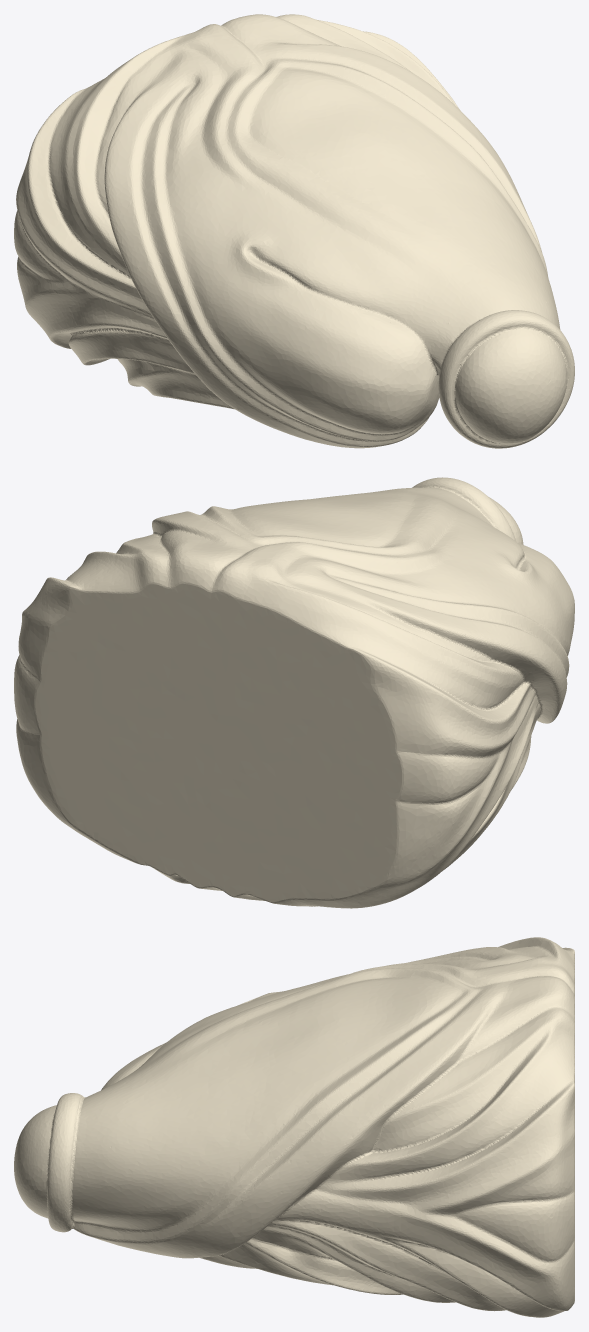
Rendered from abrazo-sagrado-natividad.glb.
The picture shows the model from 3 angles, top to bottom: view 1: azimuth 30°, elevation 25°; view 2: azimuth 150°, elevation 25°; view 3: azimuth 270°, elevation 25°; orthographic projection. The views are drawn at different scales.
Bounding box in the file's own units: 85.97 × 61.59 × 100.
